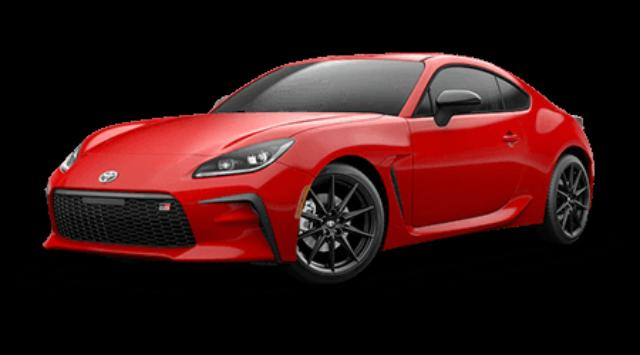toyota: (43, 51, 594, 285)
